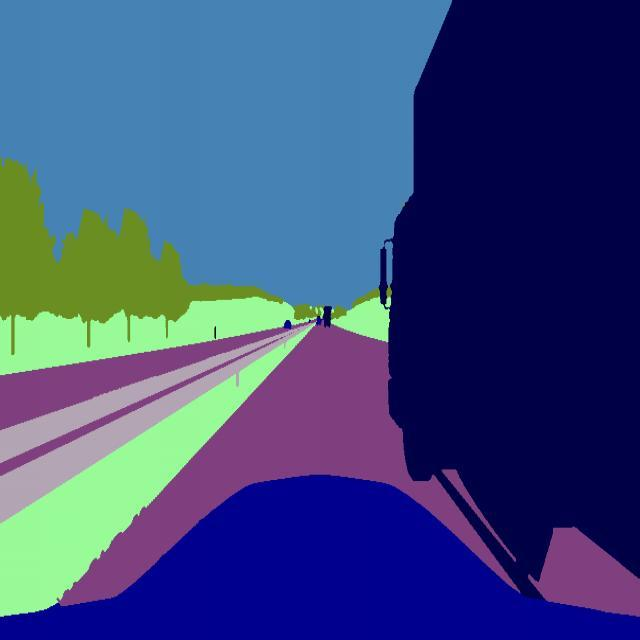safe: (322, 300, 334, 330)
unsafe: (378, 0, 640, 612)
